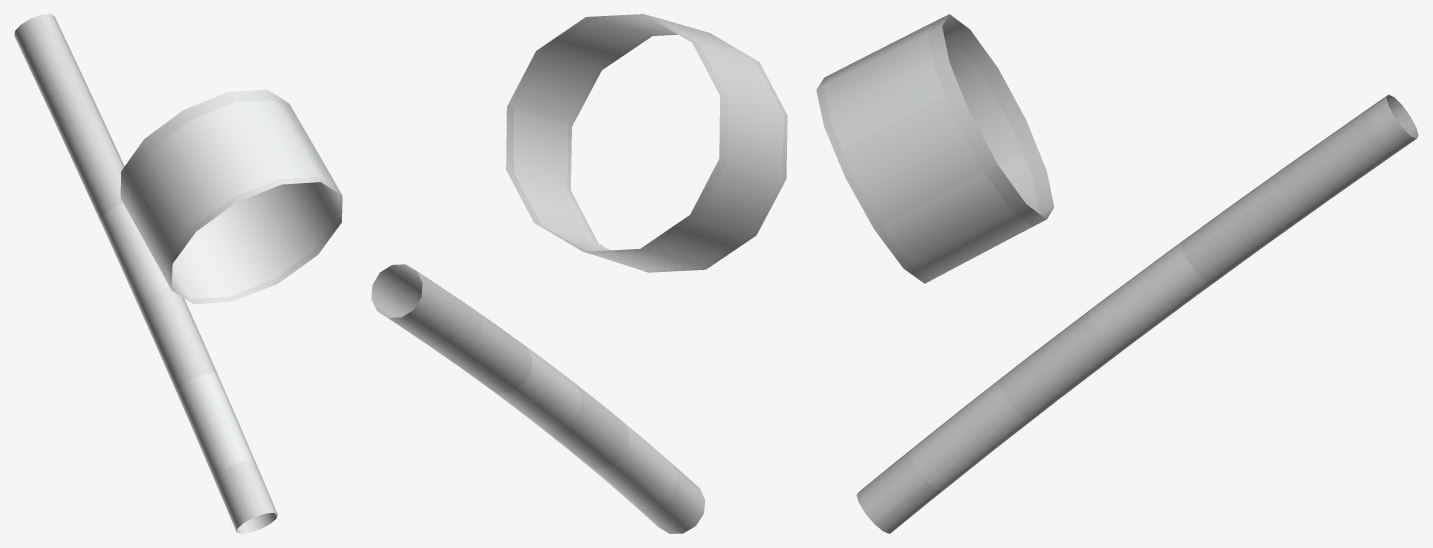
The model's file is luminairearm_laupsweep12ft_c2.obj.
3 views of the same model, side by side, from view 1: azimuth 30°, elevation 25°; view 2: azimuth 150°, elevation 25°; view 3: azimuth 270°, elevation 25° (orthographic). The views are drawn at different scales.
Parts seen in each view (by area): view 1: luminairearm_laupsweep12ft_c2; view 2: luminairearm_laupsweep12ft_c2; view 3: luminairearm_laupsweep12ft_c2.
Boxes of the visible parts, x1,y1,x2,y2 form: luminairearm_laupsweep12ft_c2: (14, 14, 342, 533); luminairearm_laupsweep12ft_c2: (371, 14, 787, 533); luminairearm_laupsweep12ft_c2: (816, 14, 1418, 533).
Bounding box in the file's own units: 0.245 × 0.5889 × 0.6371.
